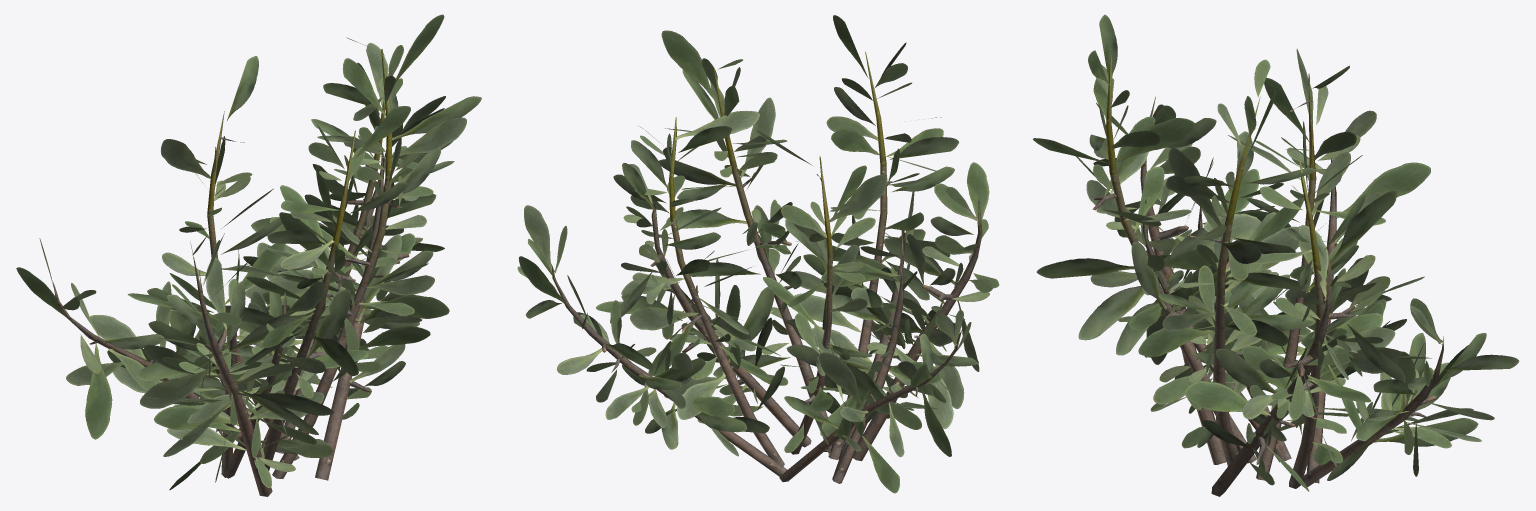
File: coastal-shrub-0-mid.glb
3 renders of one model, left to right at view 1: azimuth 30°, elevation 25°; view 2: azimuth 150°, elevation 25°; view 3: azimuth 270°, elevation 25°, orthographic. The views are drawn at different scales.
Parts seen in each view (by area): view 1: othonna_cerarioides_g; view 2: othonna_cerarioides_g; view 3: othonna_cerarioides_g.
Boxes of the visible parts, bbox=[...] form: othonna_cerarioides_g: bbox=[16, 14, 481, 496]; othonna_cerarioides_g: bbox=[517, 15, 999, 493]; othonna_cerarioides_g: bbox=[1033, 14, 1519, 496].
Size of the model in its own units: 0.9989 by 0.9307 by 0.8755.
Materials: 2 (2 with a texture image).
